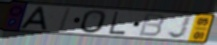A: (18, 5, 49, 31)
B: (137, 13, 166, 38)
I: (57, 7, 73, 32)
J: (166, 15, 193, 40)
L: (108, 11, 127, 36)
O: (79, 9, 108, 34)
